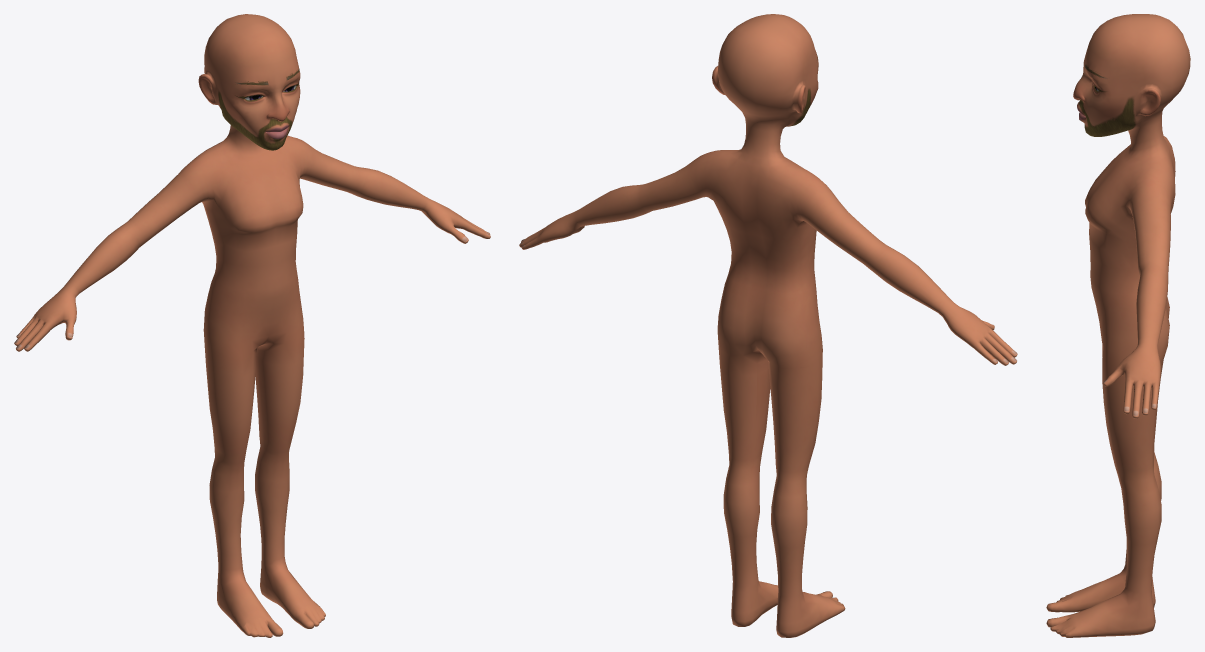
Rendered from frame_0074.glb.
The picture shows the model from 3 angles, left to right: view 1: azimuth 30°, elevation 25°; view 2: azimuth 150°, elevation 25°; view 3: azimuth 270°, elevation 25°; orthographic projection. The views are drawn at different scales.
Parts seen in each view (by area): view 1: frame_0074_head_geo; view 2: frame_0074_head_geo; view 3: frame_0074_head_geo.
Boxes of the visible parts, box(x1,y1,x2,y2) form: frame_0074_head_geo: box(14, 14, 490, 637); frame_0074_head_geo: box(519, 14, 1017, 637); frame_0074_head_geo: box(1046, 14, 1190, 637).
Bounding box in the file's own units: 1.28 × 1.5 × 0.3253.
Materials: 3 (3 with a texture image).
